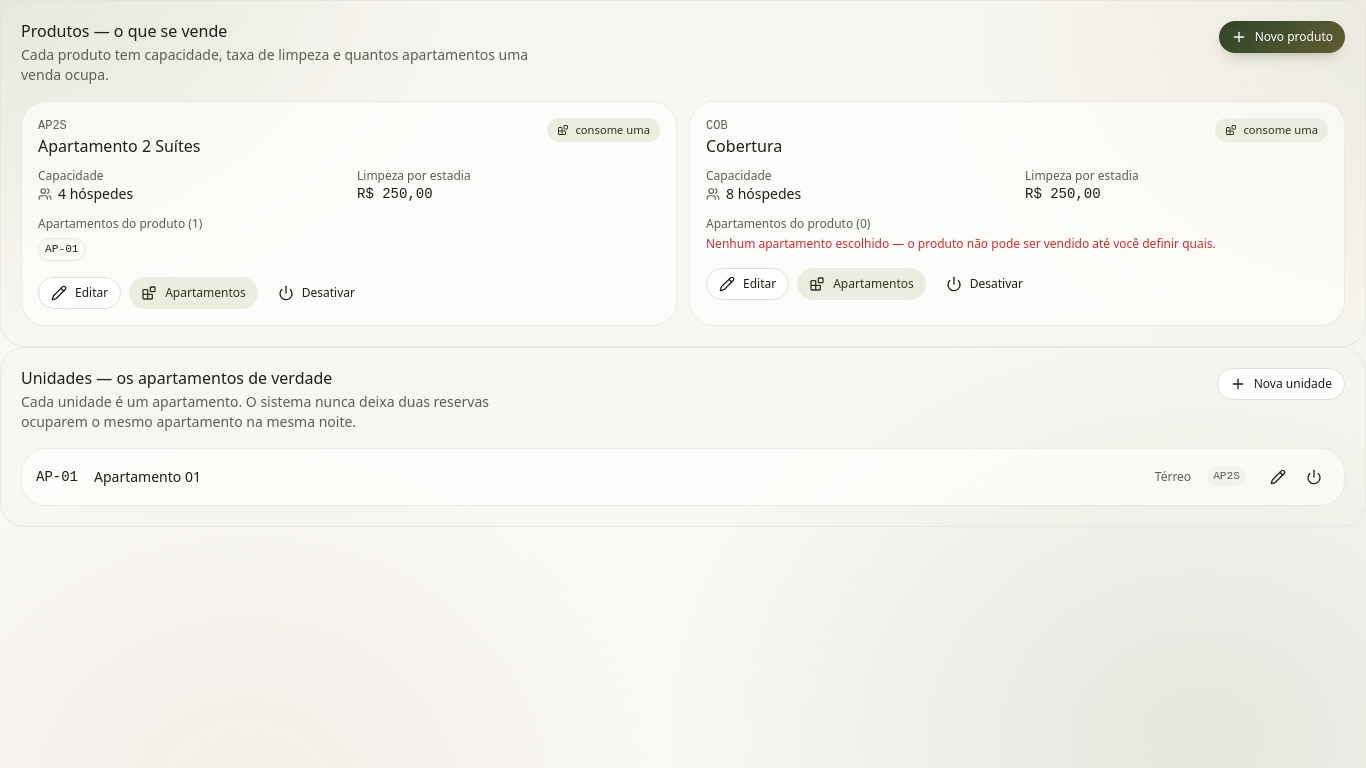
Scenario: PainelDeInventario — modais reabertos › volta ao formulário em branco quando a abertura é para criar
Step 1. Click the button "Editar" below "Cobertura" → coordinates (748, 284), box [706,268,789,300]
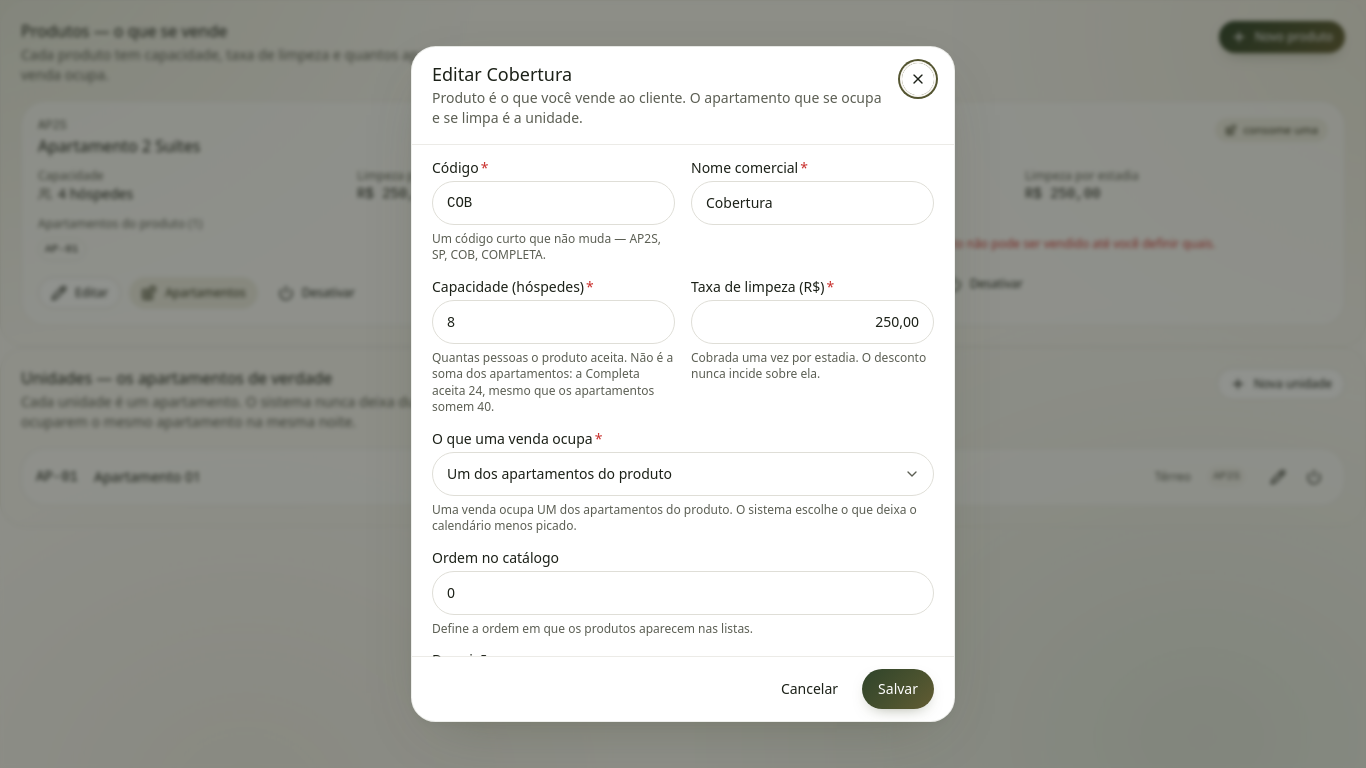
Expected: the dialog is shown, [411,46,955,722]
Step 2. Click the button "Cancelar" → coordinates (810, 689), box [765,669,854,709]
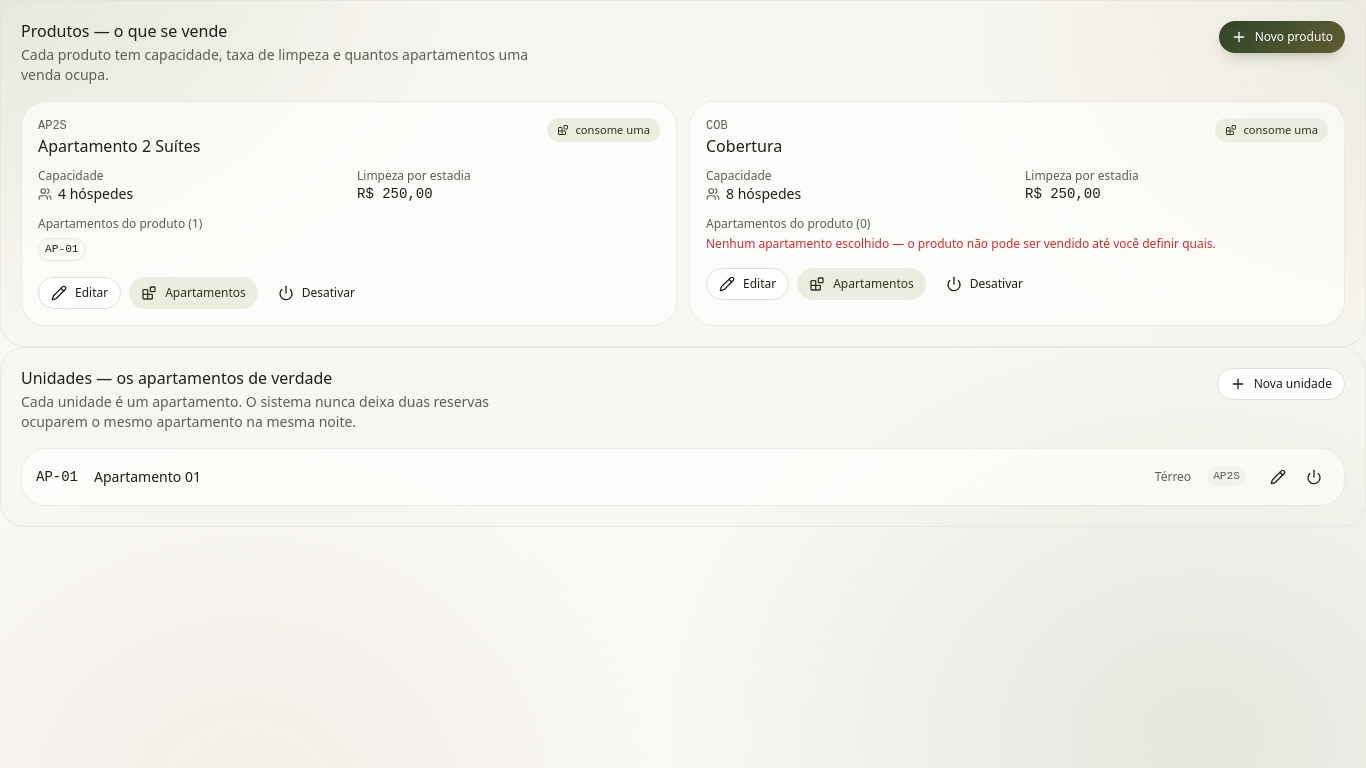
Expected: the dialog is gone
Step 3. Click the button "Novo produto" → coordinates (1282, 37), box [1219,21,1345,53]
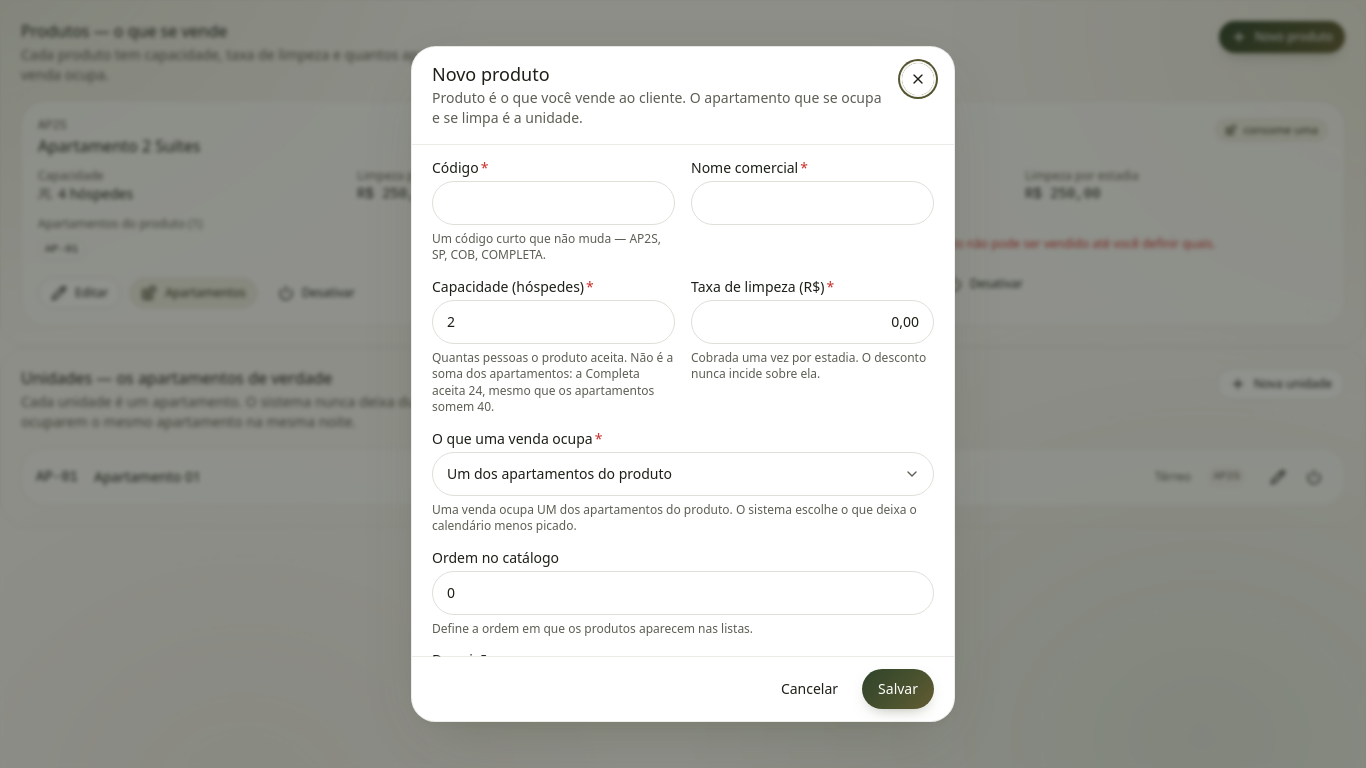
Expected: the dialog is shown, [411,46,955,722]
Expected: the field labelled "Código*" is empty, [432,181,675,225]
Expected: the field labelled "Capacidade (hóspedes)*" holds "2", [432,300,675,344]
